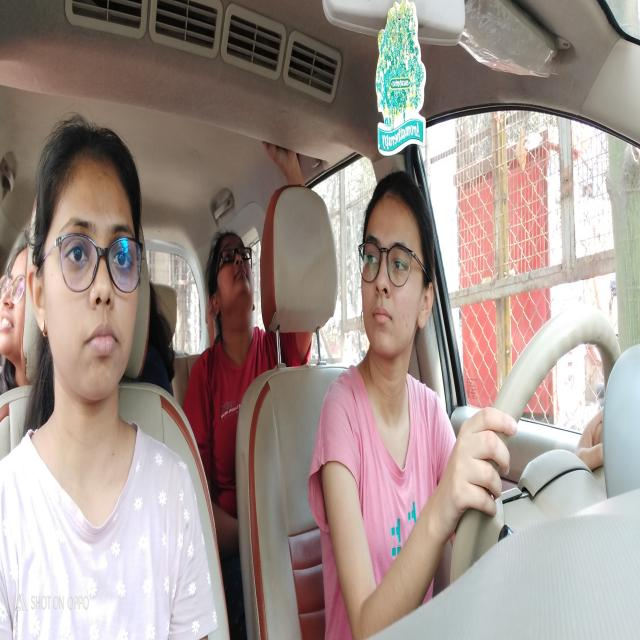LeftRight: (356, 166, 439, 382)
person: (30, 116, 148, 421), (205, 228, 257, 331), (0, 236, 34, 368)
